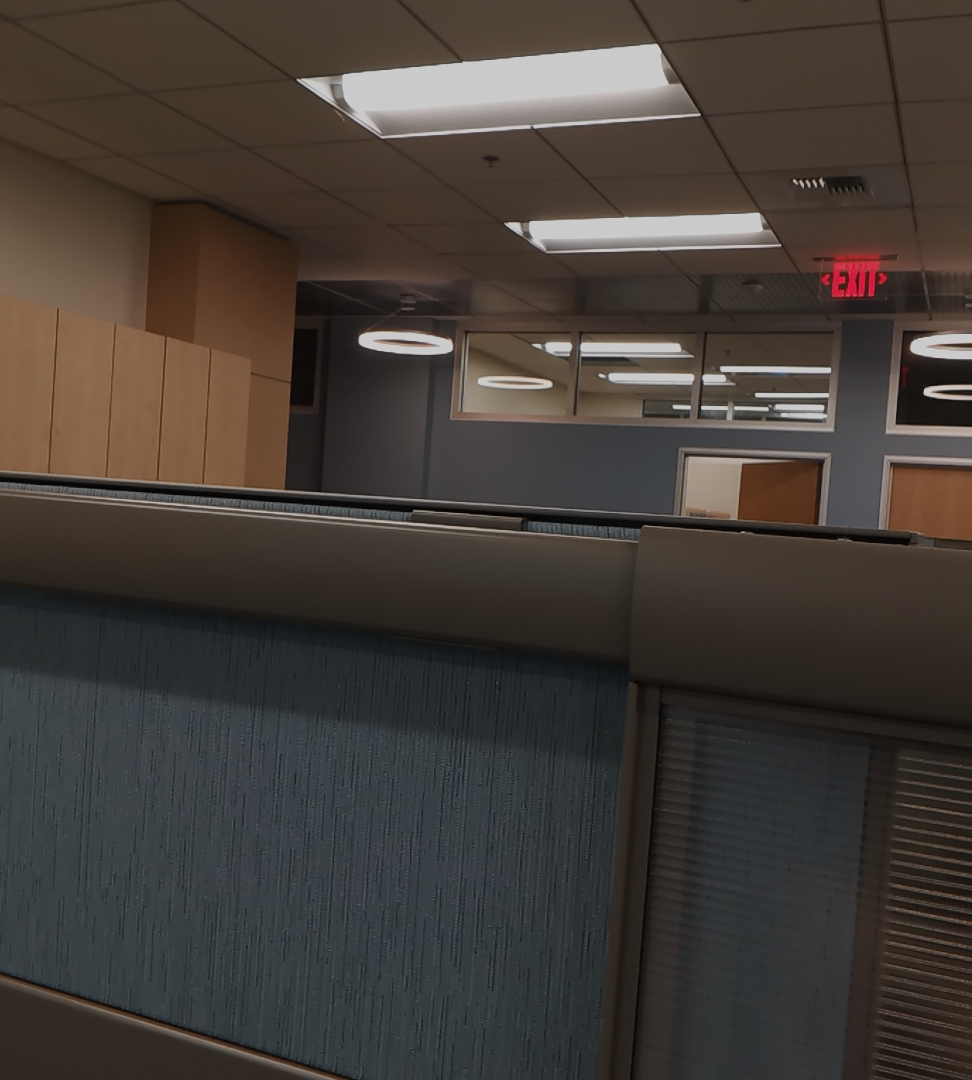emergency_exit: (814, 253, 896, 303)
